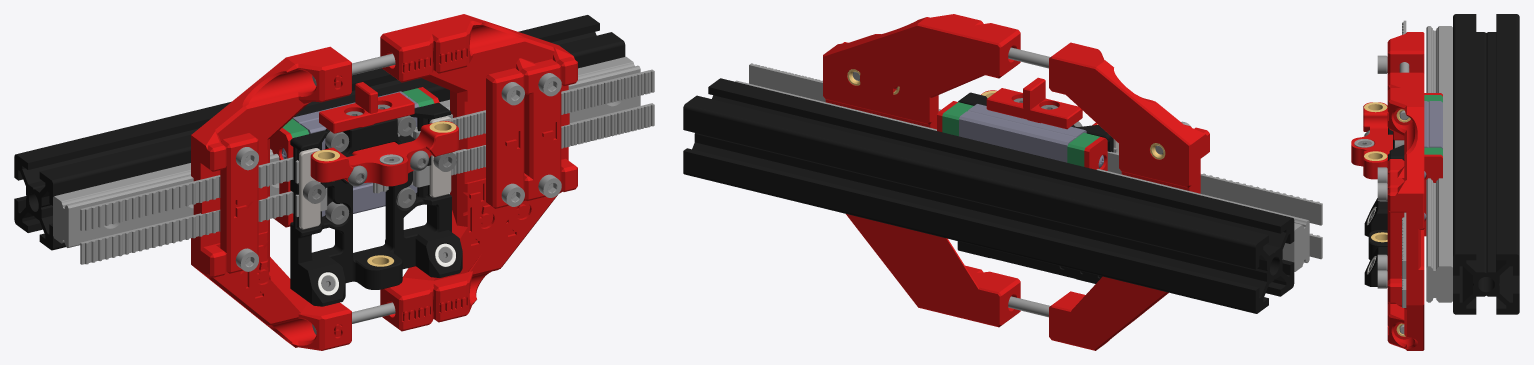
File: Fysetc_Shuttle_Install.glb
3 views of the same model, side by side, from view 1: azimuth 30°, elevation 25°; view 2: azimuth 150°, elevation 25°; view 3: azimuth 270°, elevation 25° (orthographic). The views are drawn at different scales.
Visible parts, largest first — view 1: Block Left, Extrusion, Frame, Block Right, Block Right Open, SOLID, Clip Right, Belts Left001, Belts Left, Clip Left, Top Bracket, Clip Right Open (+11 smaller); view 2: Extrusion, Block Left, Block Right, Block Right Open, PRODUCT_NAME_1, Belts Left, Flag, Frame, SOLID, Belts Right001, PRODUCT_NAME_4, PRODUCT_NAME_2 (+3 smaller); view 3: Extrusion, Block Right Open, SOLID, Top Bracket, Frame, Block Left, Clip Right Open, Block Right, PRODUCT_NAME_1, PRODUCT_NAME_5, Belts Right001, Clip Right (+10 smaller).
Part boxes in pixels (x1,y1,x2,y2): Block Left: [191, 46, 351, 350]; Extrusion: [14, 15, 625, 250]; Frame: [290, 102, 462, 306]; Block Right: [380, 23, 539, 331]; Block Right Open: [420, 14, 577, 322]; SOLID: [53, 57, 640, 247]; Clip Right: [486, 68, 524, 208]; Belts Left001: [80, 188, 327, 264]; Belts Left: [80, 157, 298, 230]; Clip Left: [220, 133, 258, 273]; Top Bracket: [310, 121, 458, 186]; Clip Right Open: [524, 59, 561, 199]; Extrusion: [683, 78, 1294, 313]; Block Left: [1049, 42, 1209, 350]; Block Right: [860, 23, 1020, 327]; Block Right Open: [823, 14, 983, 316]; PRODUCT_NAME_1: [959, 104, 1086, 162]; Belts Left: [1107, 147, 1322, 225]; Flag: [986, 77, 1082, 129]; Frame: [957, 92, 1113, 283]; SOLID: [735, 80, 1309, 271]; Belts Right001: [749, 64, 939, 111]; PRODUCT_NAME_4: [1084, 137, 1107, 170]; PRODUCT_NAME_2: [1067, 133, 1099, 166]; Extrusion: [1453, 14, 1519, 314]; Block Right Open: [1387, 88, 1424, 350]; SOLID: [1426, 26, 1452, 302]; Top Bracket: [1351, 102, 1392, 179]; Frame: [1364, 128, 1404, 286]; Block Left: [1387, 32, 1424, 74]; Clip Right Open: [1387, 177, 1404, 280]; Block Right: [1387, 72, 1424, 304]; PRODUCT_NAME_1: [1424, 101, 1442, 148]; PRODUCT_NAME_5: [1424, 154, 1442, 236]; Belts Right001: [1402, 212, 1406, 278]; Clip Right: [1387, 159, 1404, 174].
Bounding box in the file's own units: 0.1067 × 0.0506 × 0.0316.
